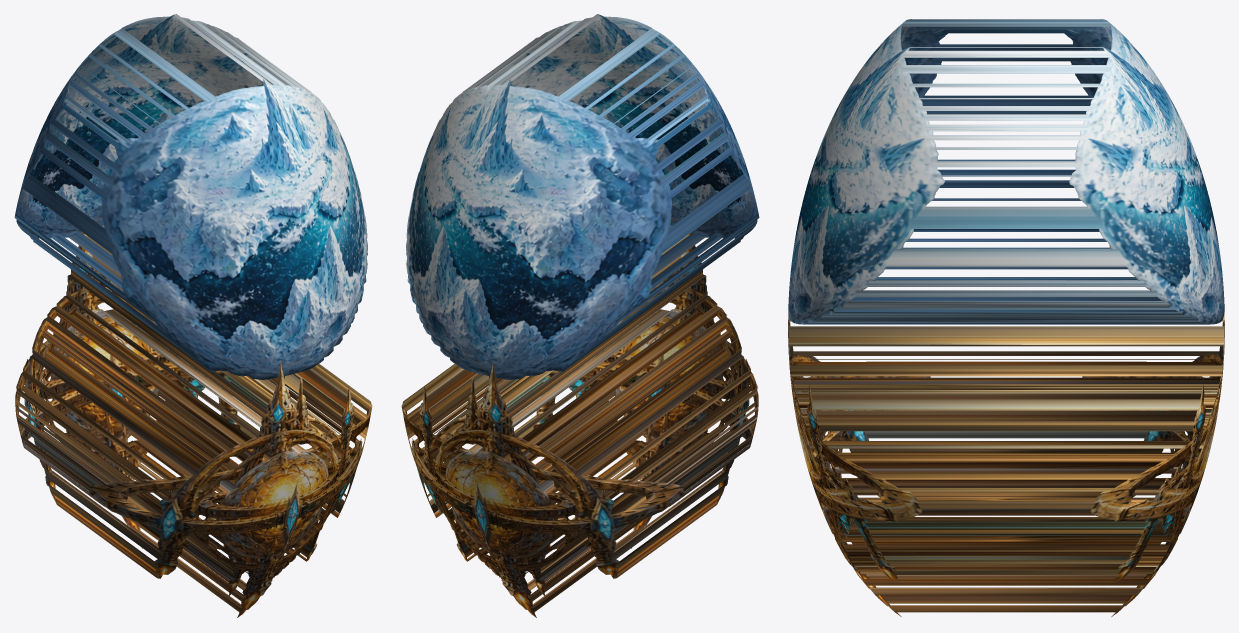
3 renders of one model, left to right at view 1: azimuth 30°, elevation 25°; view 2: azimuth 150°, elevation 25°; view 3: azimuth 270°, elevation 25°, orthographic. The views are drawn at different scales.
Visible parts, largest first — view 1: planets:6; view 2: planets:6; view 3: planets:6.
Part boxes in pixels (left/top/right/bottom): planets:6: left=14, top=14, right=372, bottom=617; planets:6: left=401, top=14, right=759, bottom=617; planets:6: left=788, top=19, right=1224, bottom=616.
Bounding box in the file's own units: 0.5271 × 0.977 × 0.66.
Materials: 1 (1 with a texture image).
